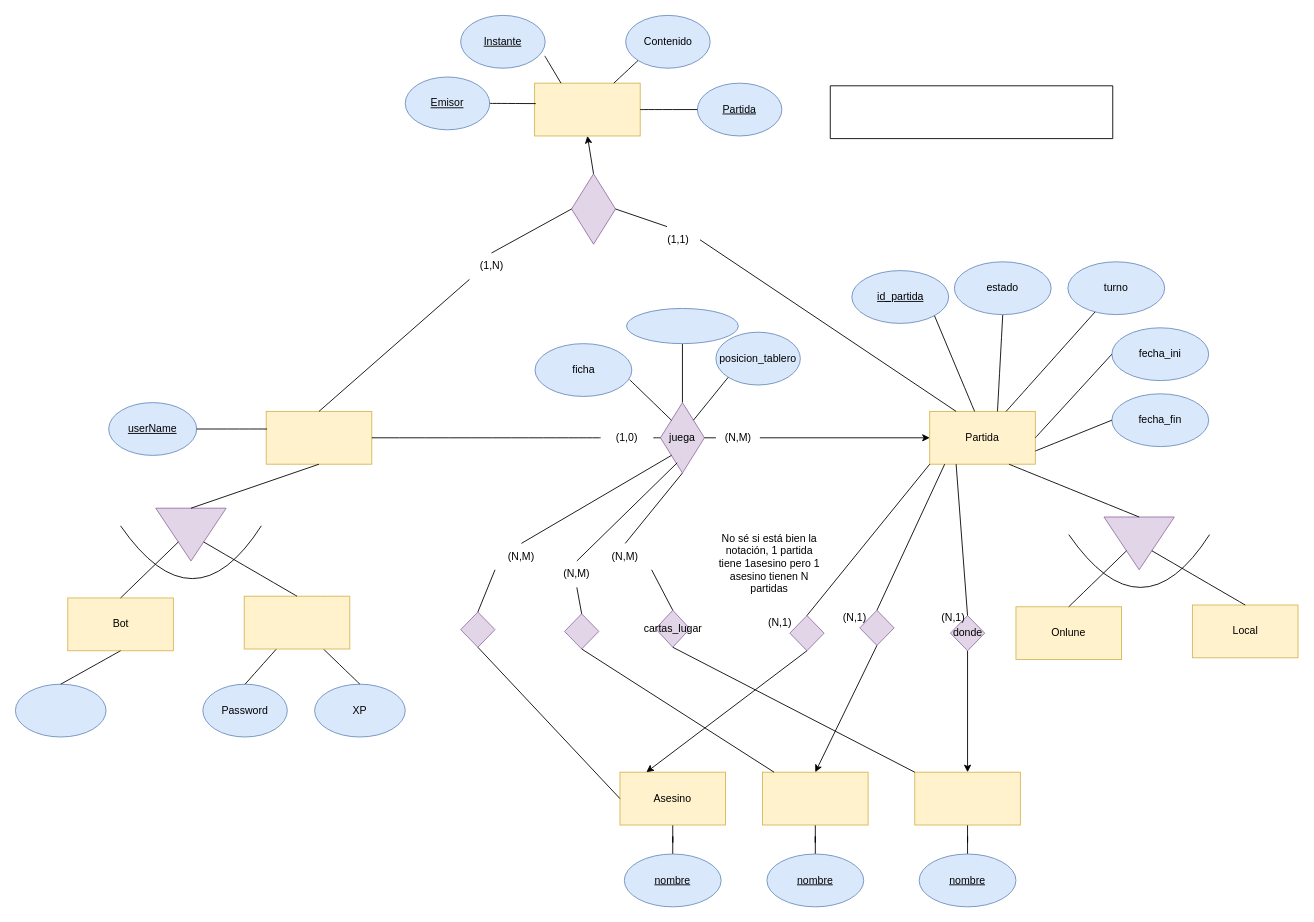
Image size: 1314x922. Some labels were removed from this diagram. The shapes that lost their labels are listed below. From the top down, each one's centre as x and y in pixels, then its label:
At pixel 587 109: "Conversación".
At pixel 971 112: "Restriccion de Ficha: Solo pueden ser los nombres de los presonajes determinados".
At pixel 593 208: "Tiene".
At pixel 682 326: "sospechas".
At pixel 318 437: "Jugador".
At pixel 296 622: "Usuario".
At pixel 477 629: "cartas_asesino".
At pixel 581 631: "cartas_arma".
At pixel 806 633: "quien".
At pixel 876 627: "con que".
At pixel 60 710: "nivel_dificultad".
At pixel 815 798: "Arma".
At pixel 967 798: "Lugar".
